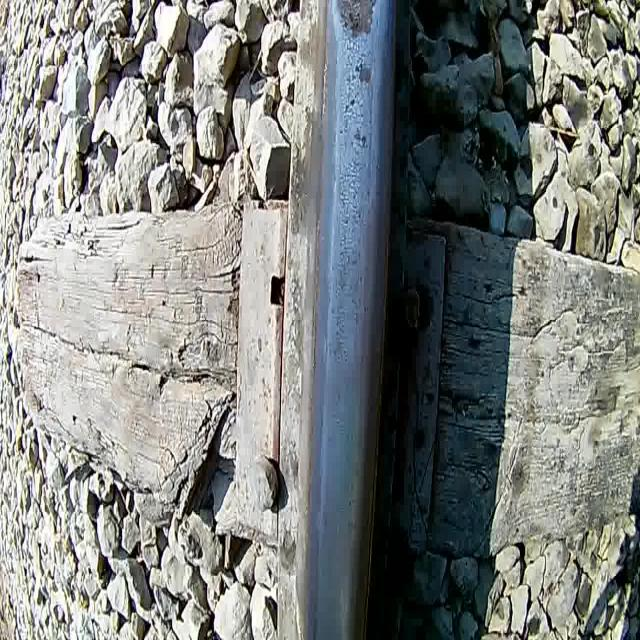Spallings: (334, 8, 374, 35)
Squats: (329, 0, 384, 40), (348, 59, 378, 88), (350, 121, 369, 155)
